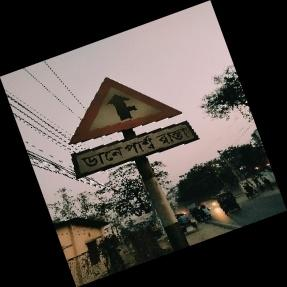Side-road-right: (68, 77, 193, 181)
